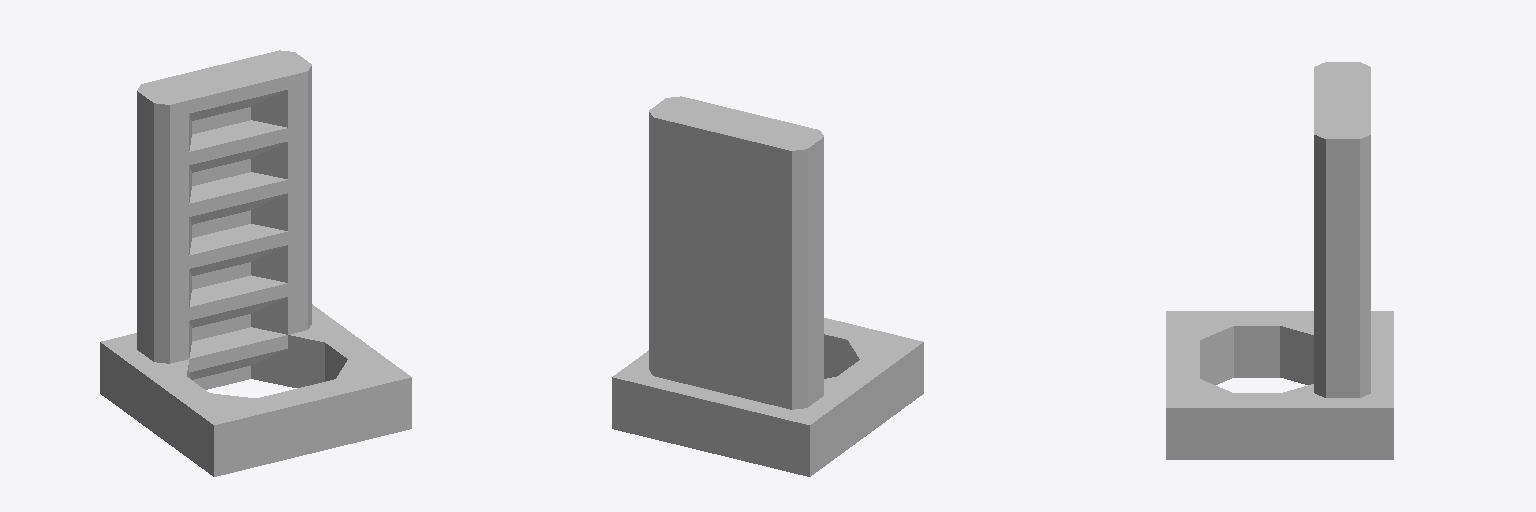
Rendered from STAIRS_UPDOWN.obj.
3 views of the same model, side by side, from view 1: azimuth 30°, elevation 25°; view 2: azimuth 150°, elevation 25°; view 3: azimuth 270°, elevation 25° (orthographic).
Parts seen in each view (by area): view 1: STAIR_UPDOWN; view 2: STAIR_UPDOWN; view 3: STAIR_UPDOWN.
Boxes of the visible parts, <box> form: STAIR_UPDOWN: <box>100,50,411,476</box>; STAIR_UPDOWN: <box>612,96,923,476</box>; STAIR_UPDOWN: <box>1166,62,1393,459</box>.
Bounding box in the file's own units: 2 × 3 × 2.